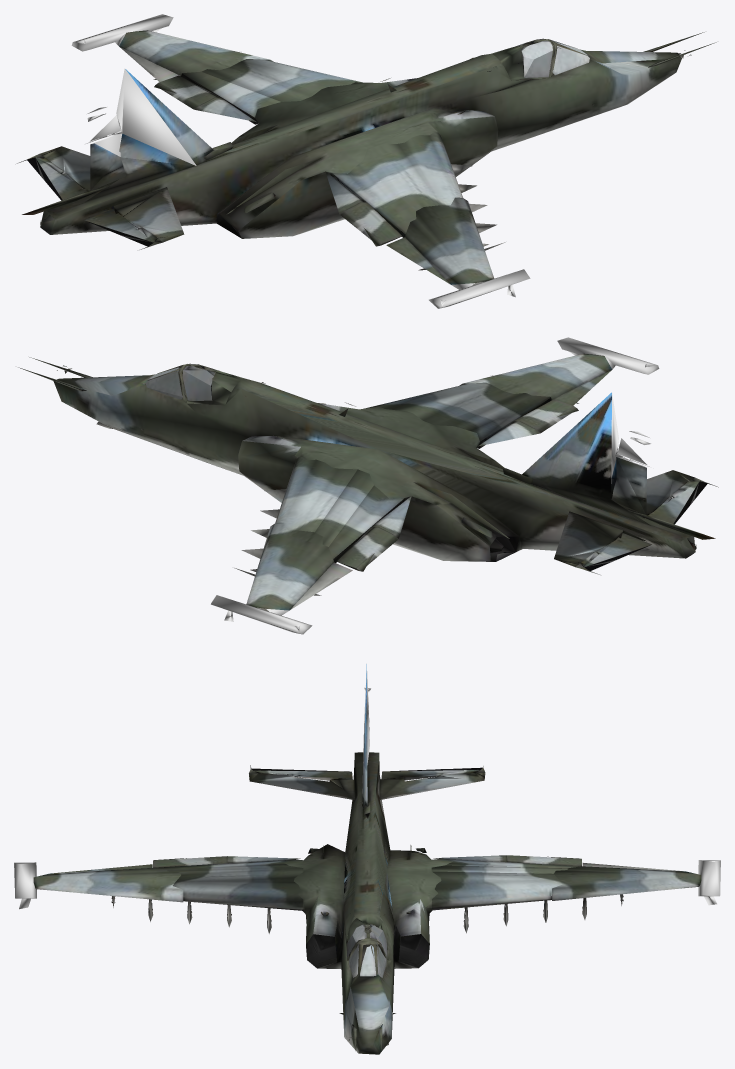
3 renders of one model, top to bottom at view 1: azimuth 30°, elevation 25°; view 2: azimuth 150°, elevation 25°; view 3: azimuth 270°, elevation 25°, orthographic. The views are drawn at different scales.
Parts seen in each view (by area): view 1: g_su25_hull; view 2: g_su25_hull; view 3: g_su25_hull.
Boxes of the visible parts, left/top/right/bottom form: g_su25_hull: left=17, top=14, right=716, bottom=308; g_su25_hull: left=18, top=337, right=718, bottom=634; g_su25_hull: left=14, top=663, right=720, bottom=1054.
Bounding box in the file's own units: 15.33 × 3.89 × 13.91.
2 materials, 1 textured.
